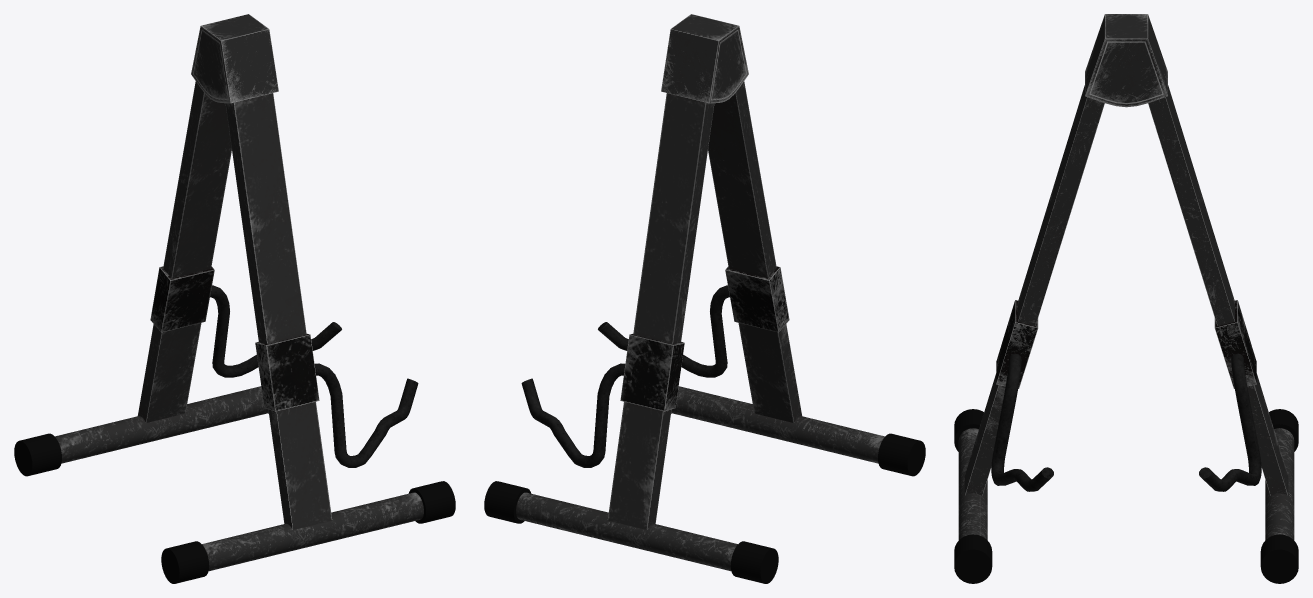
Rendered from Guitarstand.fbx.
The picture shows the model from 3 angles, left to right: view 1: azimuth 30°, elevation 25°; view 2: azimuth 150°, elevation 25°; view 3: azimuth 270°, elevation 25°; orthographic projection. The views are drawn at different scales.
Visible parts, largest first — view 1: low; view 2: low; view 3: low.
Boxes of the visible parts, x1=… form: low: x1=14, y1=14, x2=455, y2=583; low: x1=484, y1=14, x2=925, y2=583; low: x1=954, y1=14, x2=1298, y2=583.
Size of the model in its own units: 200 by 316 by 203.
